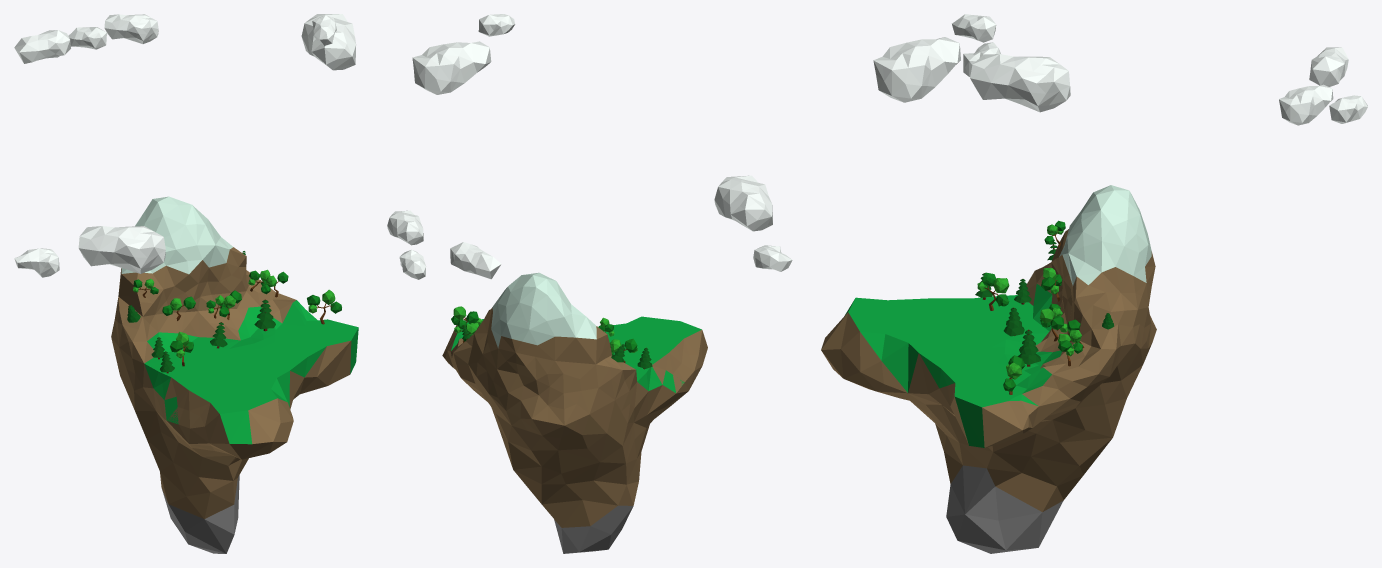
The model's file is Rand03_Fracture (1).fbx.
The picture shows the model from 3 angles, left to right: view 1: azimuth 30°, elevation 25°; view 2: azimuth 150°, elevation 25°; view 3: azimuth 270°, elevation 25°; orthographic projection. The views are drawn at different scales.
Visible parts, largest first — view 1: Rand03, Cloud, Rand03_cell.025, Rand03_cell.235, Rand03_cell.242, Rand03_cell.334, Rand03_cell.089, Rand03_cell, Rand03_cell.291, Tree. 002.001, Rand03_cell.173, Rand03_cell.111 (+1 smaller); view 2: Rand03, Cloud, Rand03_cell.025, Rand03_cell.331, Rand03_cell.015, Rand03_cell.099, Rand03_cell.199, Rand03_cell.115; view 3: Rand03, Cloud, Rand03_cell.156, Rand03_cell.235, Rand03_cell.142, Rand03_cell.336, Rand03_cell.153, Rand03_cell.025, Rand03_cell.289, Rand03_cell.115, Rand03_cell.299, Rand03_cell.334 (+1 smaller).
Boxes of the visible parts, <box> form: Rand03: <box>111,197,358,553</box>; Cloud: <box>14,14,356,277</box>; Rand03_cell.025: <box>189,390,283,458</box>; Rand03_cell.235: <box>249,359,301,393</box>; Rand03_cell.242: <box>165,274,199,316</box>; Rand03_cell.334: <box>176,464,238,503</box>; Rand03_cell.089: <box>180,497,236,524</box>; Rand03_cell: <box>145,404,180,468</box>; Rand03_cell.291: <box>167,497,223,531</box>; Tree. 002.001: <box>307,289,341,324</box>; Rand03_cell.173: <box>186,218,205,257</box>; Rand03_cell.111: <box>217,247,245,274</box>; Rand03: <box>442,272,707,553</box>; Cloud: <box>387,14,792,279</box>; Rand03_cell.025: <box>635,317,707,372</box>; Rand03_cell.331: <box>551,505,624,546</box>; Rand03_cell.015: <box>501,379,540,429</box>; Rand03_cell.099: <box>506,341,553,378</box>; Rand03_cell.199: <box>546,367,573,410</box>; Rand03_cell.115: <box>470,347,501,393</box>; Rand03: <box>821,187,1156,553</box>; Cloud: <box>873,14,1367,125</box>; Rand03_cell.156: <box>847,331,923,401</box>; Rand03_cell.235: <box>885,327,958,378</box>; Rand03_cell.142: <box>949,493,998,538</box>; Rand03_cell.336: <box>967,461,1038,499</box>; Rand03_cell.153: <box>903,308,973,329</box>; Rand03_cell.025: <box>822,298,908,365</box>; Rand03_cell.289: <box>1092,234,1132,277</box>; Rand03_cell.115: <box>1122,306,1144,351</box>; Rand03_cell.299: <box>1067,414,1119,452</box>; Rand03_cell.334: <box>937,430,969,494</box>.
Size of the model in its own units: 4949 by 6823 by 5648.
